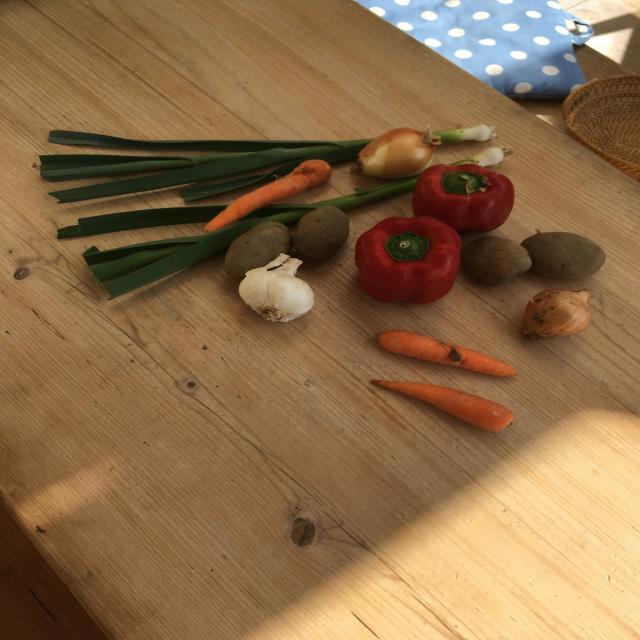carrot: (203, 155, 335, 233), (364, 371, 518, 434), (370, 325, 521, 377)
garlic: (234, 254, 317, 326)
leek: (50, 146, 516, 295), (42, 120, 503, 207)
onion: (349, 122, 444, 180), (516, 282, 603, 345)
pepper: (350, 210, 463, 306), (406, 156, 526, 238)
potato: (518, 227, 613, 285), (223, 213, 297, 282), (452, 230, 533, 290), (292, 199, 353, 266)
